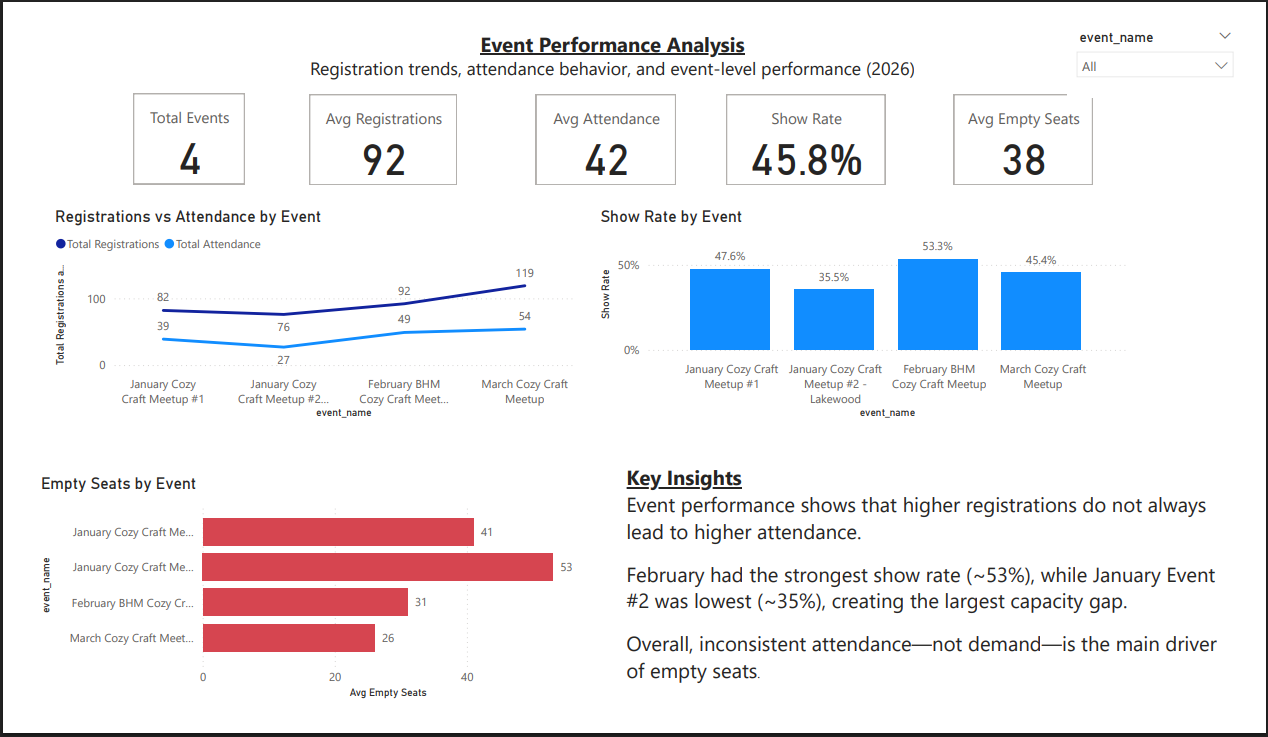

Layout of this report page (visuals, bound fields, positions):
{"tool":"powerbi","page":{"name":"Performance","canvas":[1280,720],"ordinal":1},"visuals":[{"type":"textbox","box":[163.4,0,908.5,67.6],"z":0},{"type":"cardVisual","fields":{"Data":["event_data_clean.Total Events"]},"box":[108.6,67.2,127.6,105.2],"z":1000},{"type":"cardVisual","fields":{"Data":["event_data_clean.Avg Registrations"]},"box":[293.9,68.2,165.2,104.5],"z":2000},{"type":"cardVisual","fields":{"Data":["event_data_clean.Avg Attendance"]},"box":[531.8,68.2,157.6,104.5],"z":3000},{"type":"cardVisual","fields":{"Data":["event_data_clean.Show Rate"]},"box":[731.8,68.2,177.3,104.5],"z":4000},{"type":"cardVisual","fields":{"Data":["event_data_clean.Avg Empty Seats"]},"box":[971.2,68.2,156.1,104.5],"z":5000},{"type":"lineChart","title":"Registrations vs Attendance by Event","fields":{"Y":["event_data_clean.Total Registrations","event_data_clean.Total Attendance"],"Category":["event_data_clean.event_name"]},"box":[27.3,190.9,562.1,227.3],"z":6000},{"type":"columnChart","title":"Show Rate by Event","fields":{"Category":["event_data_clean.event_name"],"Y":["event_data_clean.Show Rate"]},"box":[600,190.9,562.1,227.3],"z":7000},{"type":"barChart","title":"Empty Seats by Event","fields":{"Category":["event_data_clean.event_name"],"Y":["event_data_clean.Avg Empty Seats"]},"box":[12.1,471.2,577.3,240.9],"z":8000},{"type":"slicer","fields":{"Values":["event_data_clean.event_name"]},"box":[1095.5,0,184.8,75.8],"z":9000},{"type":"textbox","box":[627.3,454.5,653,257.6],"z":10000}]}

Visuals, with their boxes on the page's 1280x720 design canvas (x1, y1, x2, y2). These are canvas units, not pixel positions in the 1268x737 screenshot, which may show the page scaled, cropped or inside an application window:
textbox: bbox=(163, 0, 1072, 68)
cardVisual - event_data_clean.Total Events: bbox=(109, 67, 236, 172)
cardVisual - event_data_clean.Avg Registrations: bbox=(294, 68, 459, 173)
cardVisual - event_data_clean.Avg Attendance: bbox=(532, 68, 689, 173)
cardVisual - event_data_clean.Show Rate: bbox=(732, 68, 909, 173)
cardVisual - event_data_clean.Avg Empty Seats: bbox=(971, 68, 1127, 173)
"Registrations vs Attendance by Event" lineChart: bbox=(27, 191, 589, 418)
"Show Rate by Event" columnChart: bbox=(600, 191, 1162, 418)
"Empty Seats by Event" barChart: bbox=(12, 471, 589, 712)
slicer - event_data_clean.event_name: bbox=(1096, 0, 1280, 76)
textbox: bbox=(627, 454, 1280, 712)
